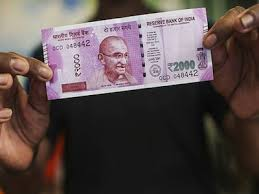twoThousand: (57, 29, 199, 77)
